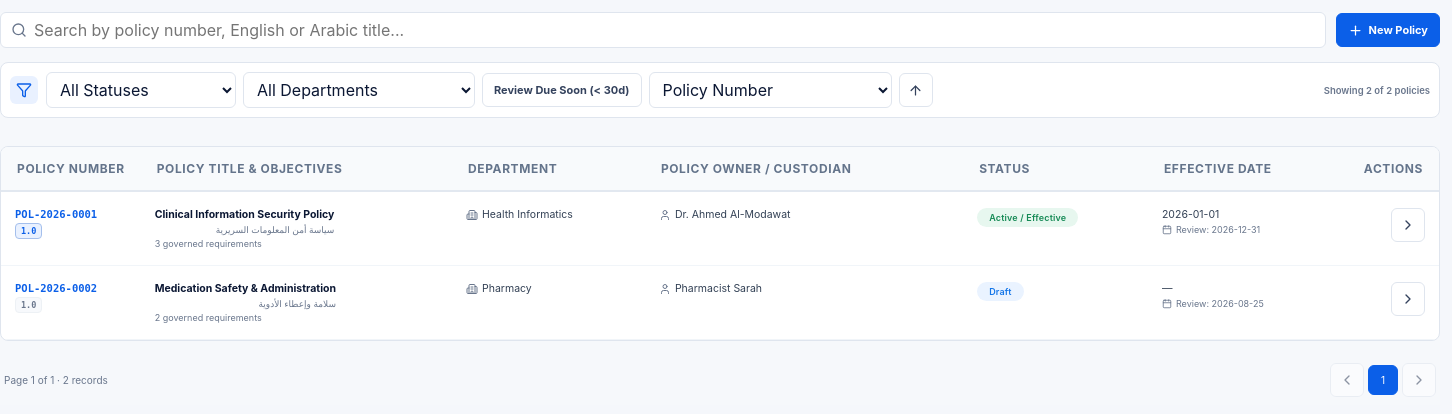
Test: GRC v1.4-D2 — Policies & SOPs Hub + Governed Policy Register / Editor Unit Tests › 3. PolicyRegister filters by status and department
// Filter by Active status
Select "Active / Effective" in the dropdown showing "All Statuses" at (141, 90), box x1=46 y1=72 x2=236 y2=108
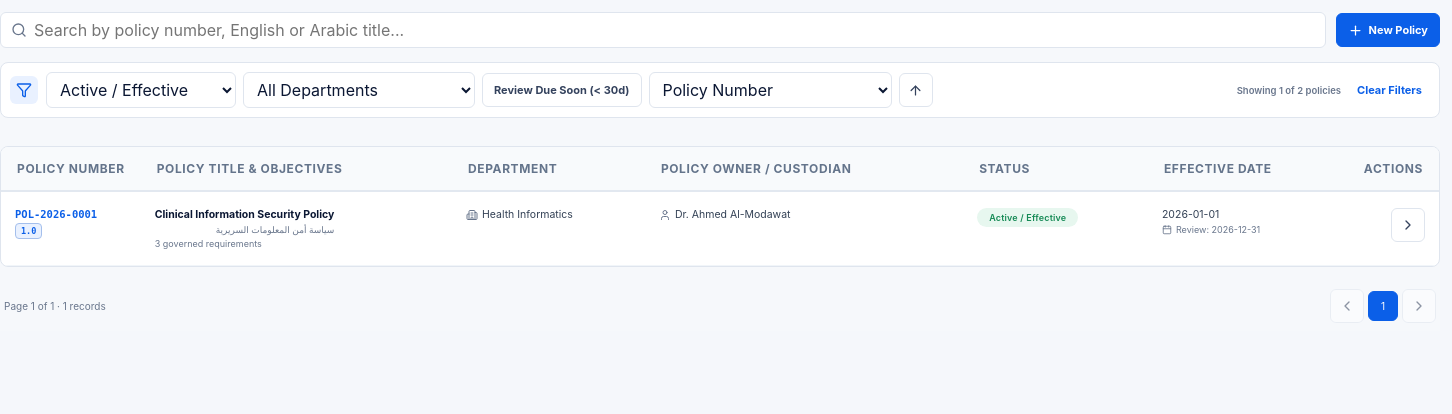
Expected: the text "POL-2026-0001" is shown, x1=15 y1=208 x2=97 y2=220
Expected: the button "POL-2026-0002" is gone
// Reset filter
Click the button "Clear Filters" at (1390, 90), box x1=1349 y1=73 x2=1430 y2=107
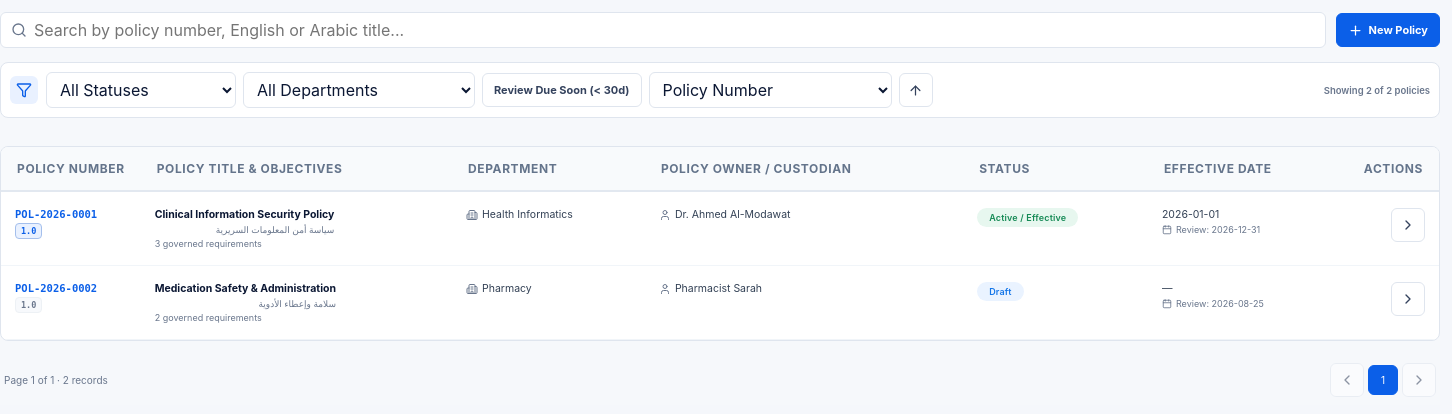
Expected: the text "POL-2026-0002" is shown, x1=15 y1=282 x2=97 y2=294
